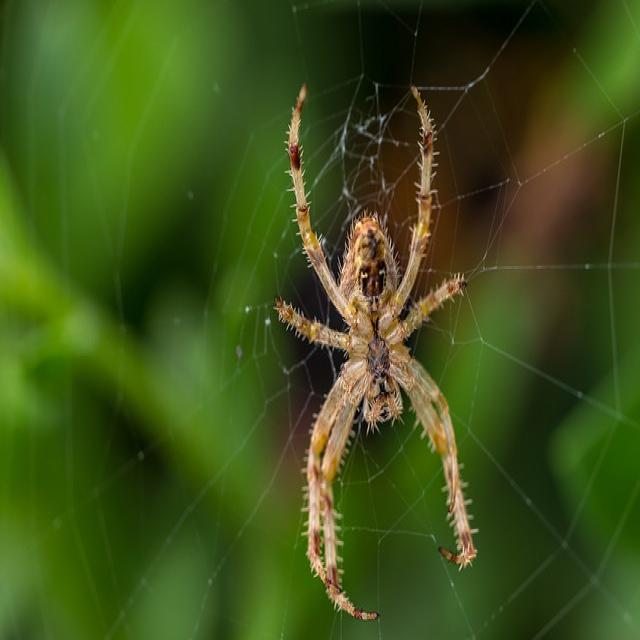spyder: (275, 86, 475, 620)
